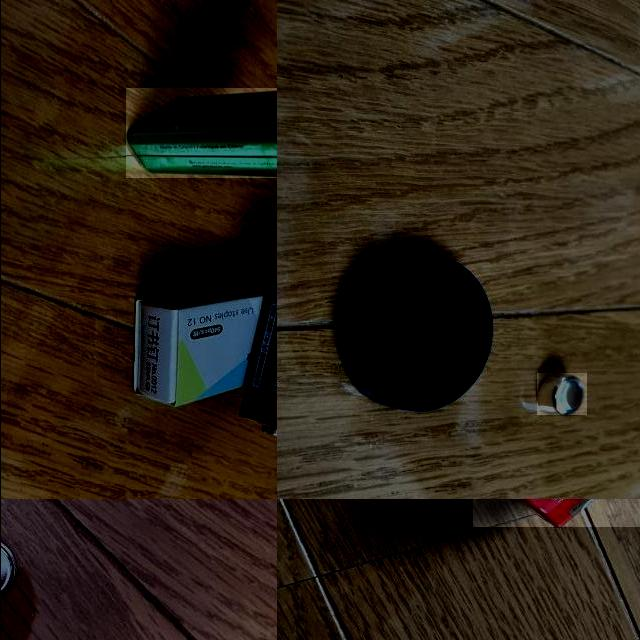9V: (125, 88, 276, 178), (239, 283, 276, 436)
